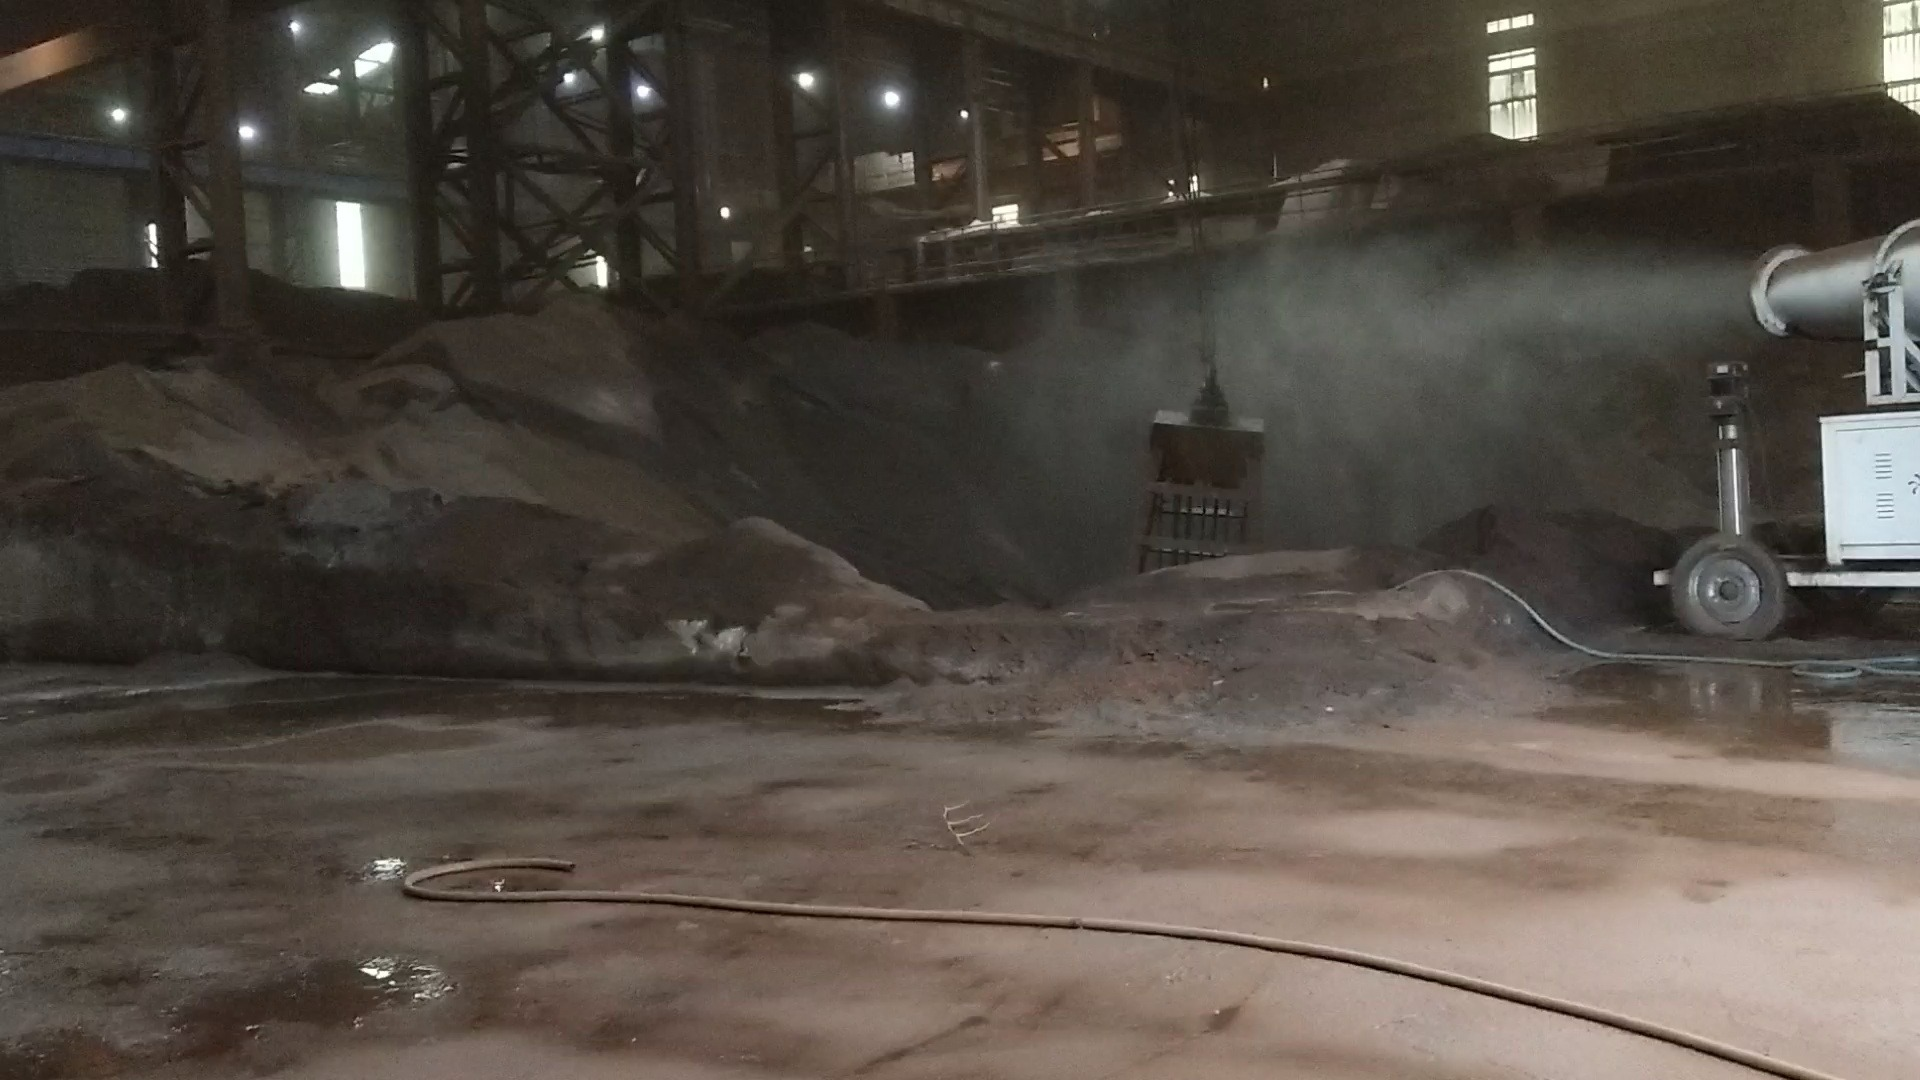dust: (1031, 228, 1727, 423)
grab: (1106, 360, 1282, 593)
